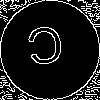C: (25, 25, 67, 75)
